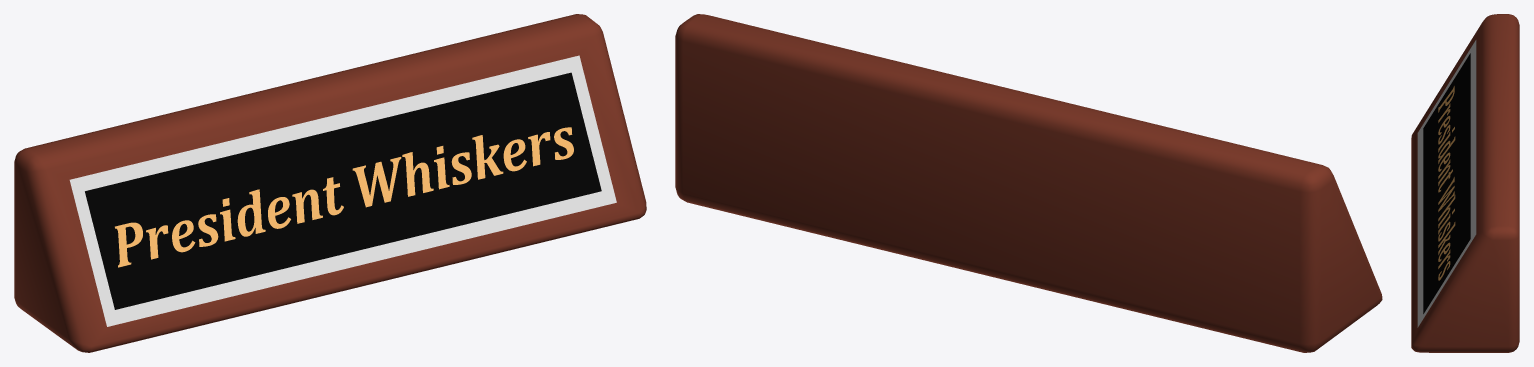
The model's file is NamePlacard.fbx.
The picture shows the model from 3 angles, left to right: view 1: azimuth 30°, elevation 25°; view 2: azimuth 150°, elevation 25°; view 3: azimuth 270°, elevation 25°; orthographic projection. The views are drawn at different scales.
Visible parts, largest first — view 1: Name Placard; view 2: Name Placard; view 3: Name Placard.
Boxes of the visible parts, x1,y1,x2,y2 form: Name Placard: (14,14,646,352); Name Placard: (675,14,1382,352); Name Placard: (1411,14,1519,352).
Size of the model in its own units: 480 by 128 by 99.52.
